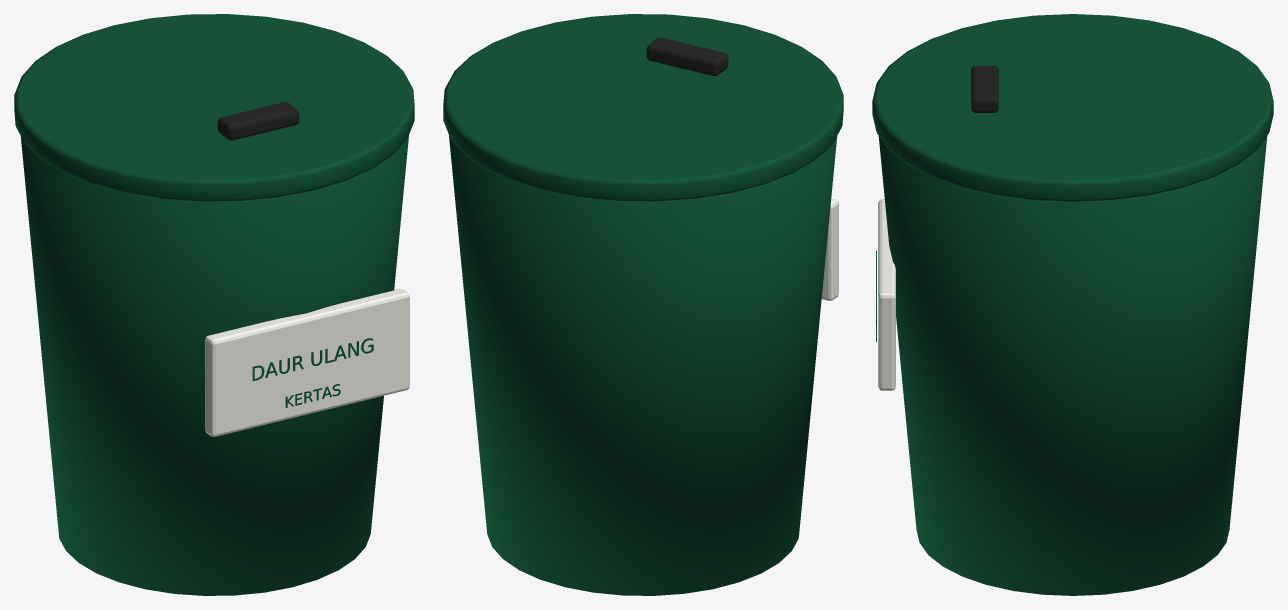
Rendered from OAA_Tempat_Sampah_DaurUlang.fbx.
3 renders of one model, left to right at view 1: azimuth 30°, elevation 25°; view 2: azimuth 150°, elevation 25°; view 3: azimuth 270°, elevation 25°, orthographic.
Parts seen in each view (by area): view 1: Body, Recycle_Lid_Hinge_Mesh; view 2: Body, Recycle_Lid_Hinge_Mesh; view 3: Body, Recycle_Lid_Hinge_Mesh.
Boxes of the visible parts, box(x1,y1,x2,y2) form: Body: box(20, 135, 409, 595); Recycle_Lid_Hinge_Mesh: box(14, 14, 414, 201); Body: box(449, 135, 838, 595); Recycle_Lid_Hinge_Mesh: box(443, 14, 843, 201); Body: box(876, 136, 1267, 595); Recycle_Lid_Hinge_Mesh: box(872, 14, 1273, 201).
Size of the model in its own units: 0.41 by 0.506 by 0.41.
